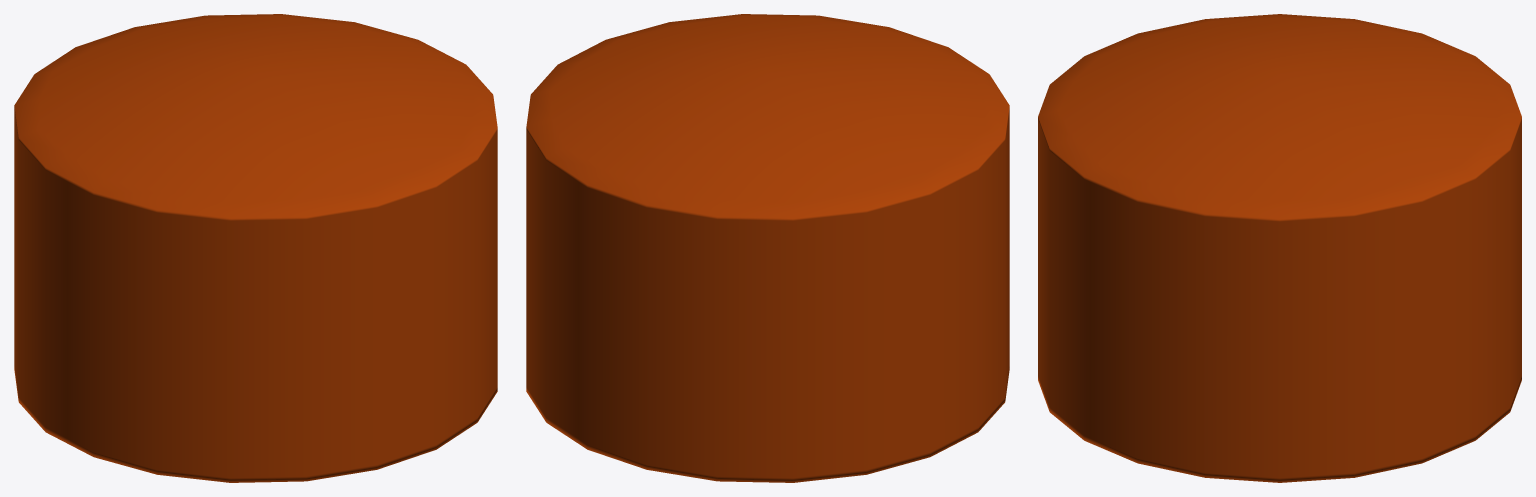
The model's file is Boton.fbx.
3 renders of one model, left to right at view 1: azimuth 30°, elevation 25°; view 2: azimuth 150°, elevation 25°; view 3: azimuth 270°, elevation 25°, orthographic.
Parts seen in each view (by area): view 1: pCylinder2; view 2: pCylinder2; view 3: pCylinder2.
Boxes of the visible parts, x1,y1,x2,y2 form: pCylinder2: (14, 14, 497, 482); pCylinder2: (526, 14, 1009, 482); pCylinder2: (1038, 14, 1521, 482).
Size of the model in its own units: 0.0898 by 0.0637 by 0.0897.
